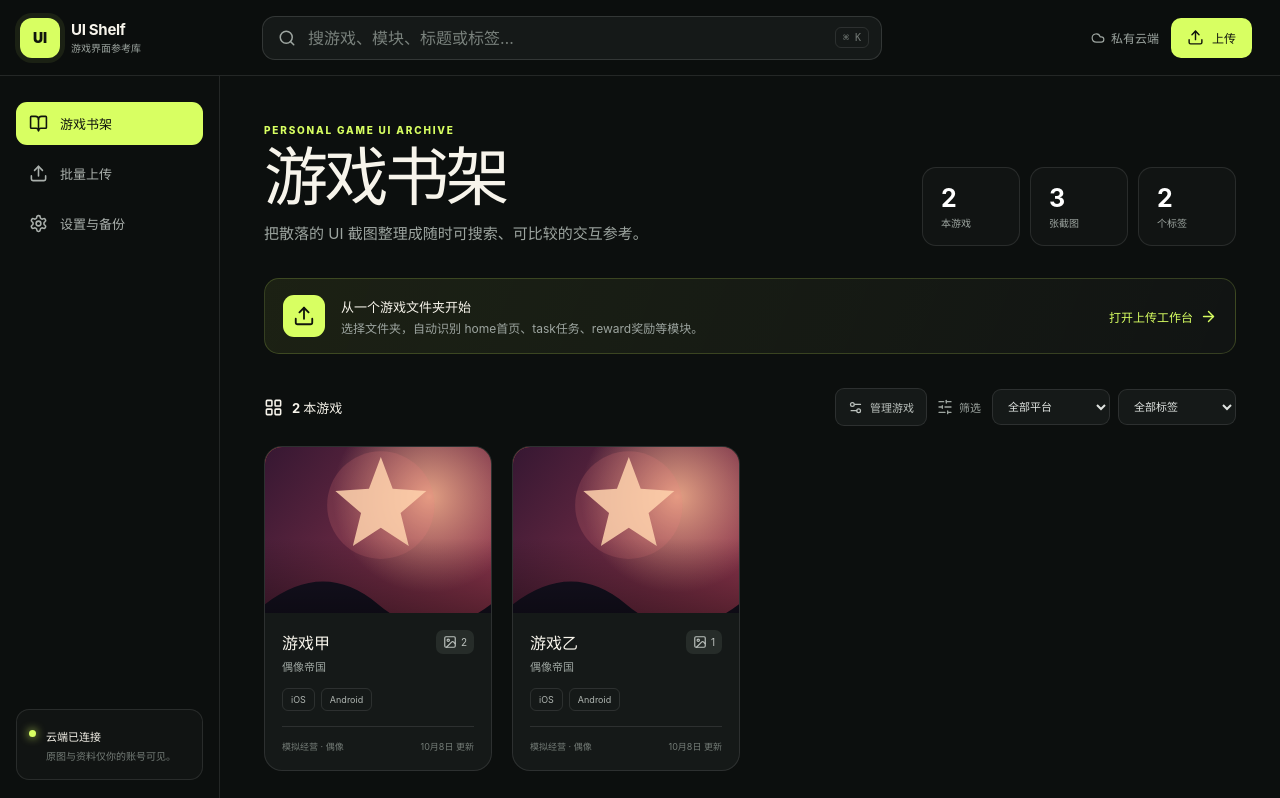
bookshelf game management › keeps partial cleanup and refresh failures visible on the shelf
The image size is (1280, 798).
Click the button "管理游戏" at [881, 407], box x1=835 y1=388 x2=927 y2=426
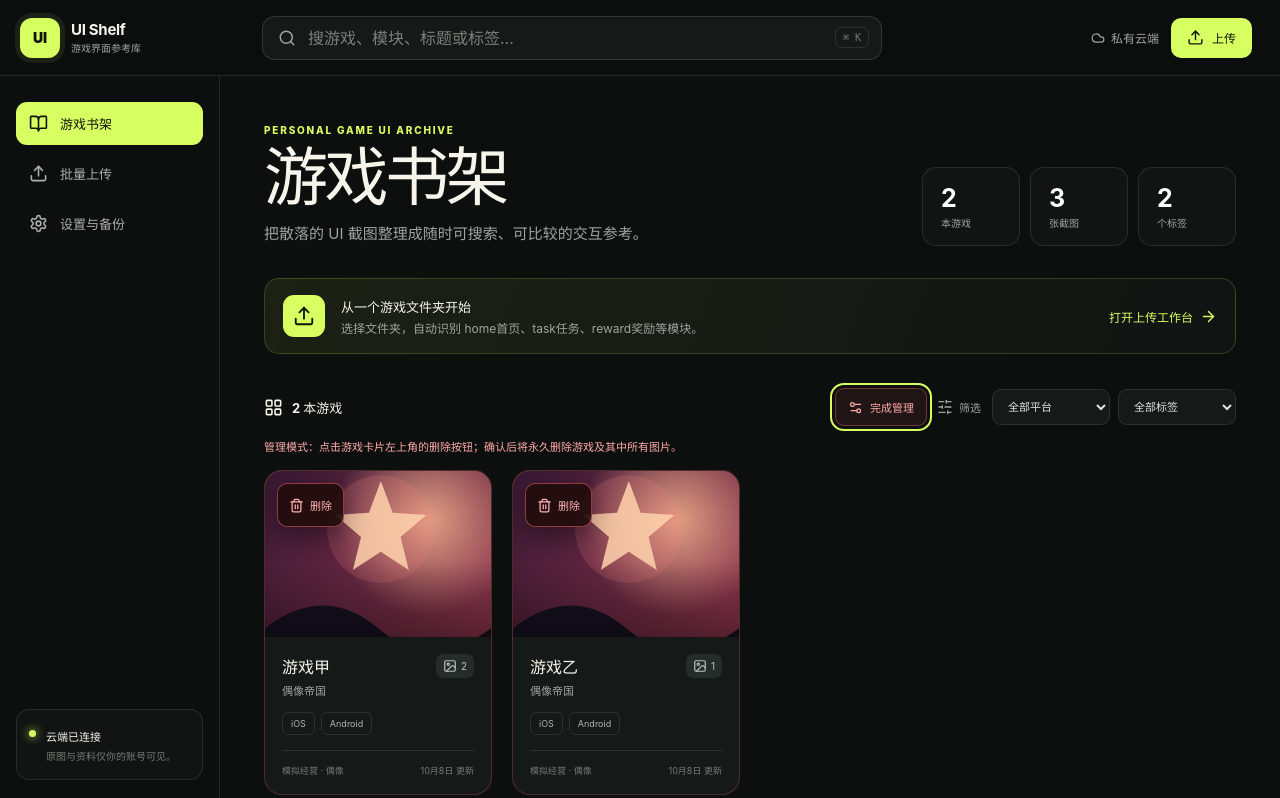
Expected: the button named "管理游戏" is pressed, x1=835 y1=388 x2=927 y2=426
Click the button with aria-label "删除游戏 游戏甲" at [310, 505], box x1=277 y1=483 x2=344 y2=527
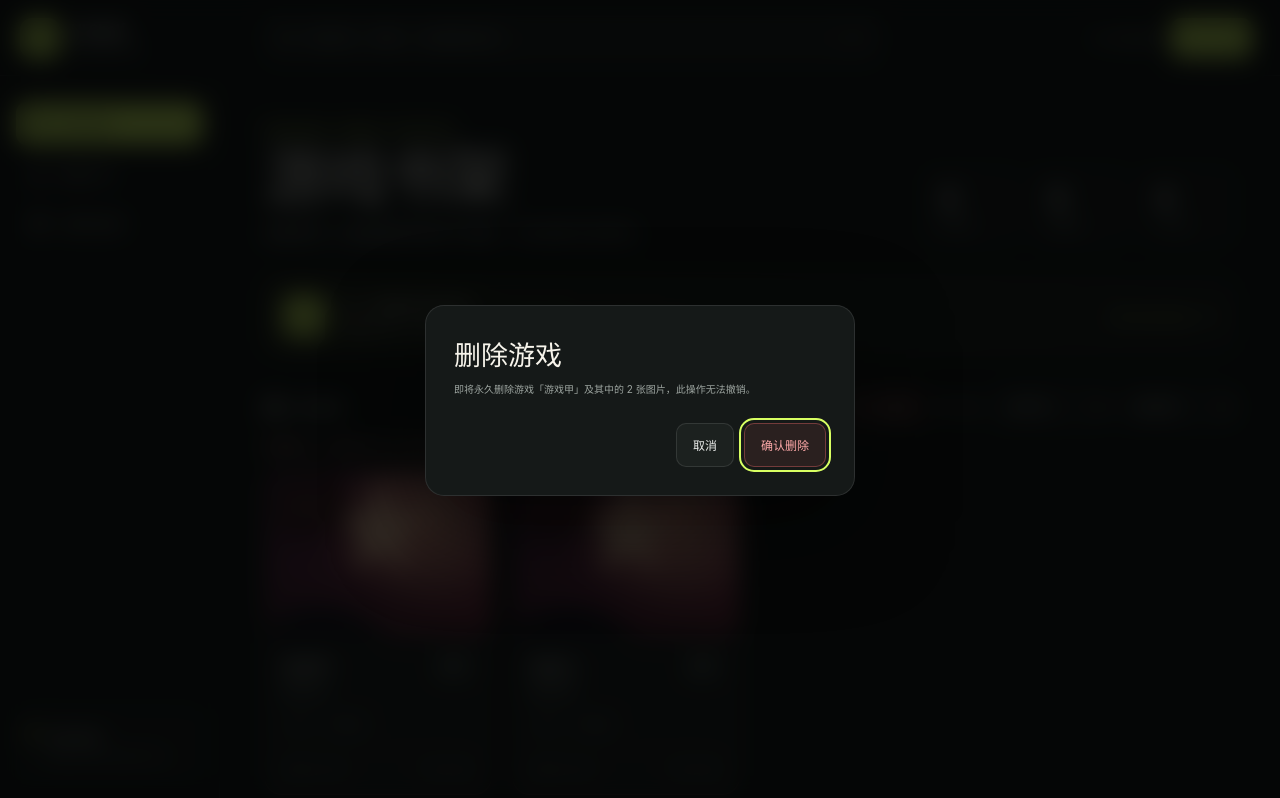
Click the button "确认删除" at [785, 444], box x1=744 y1=422 x2=826 y2=466
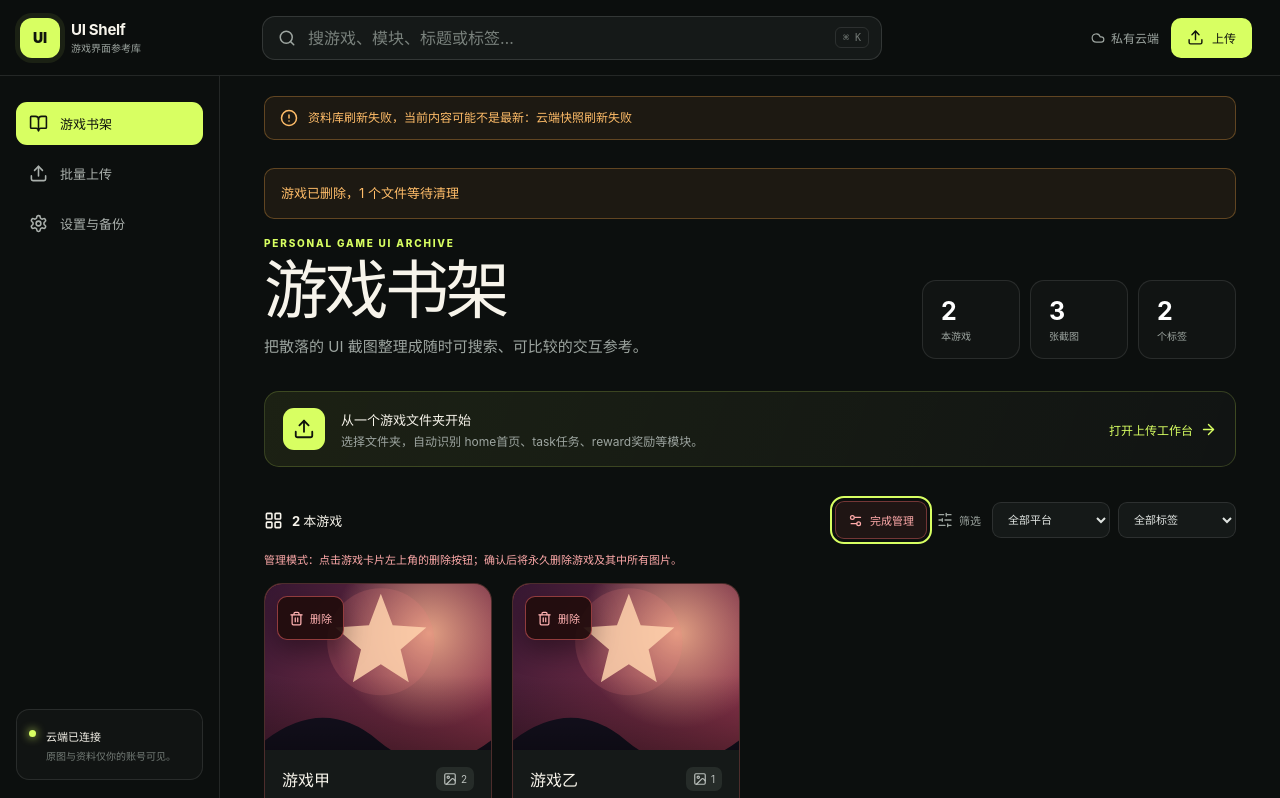
Expected: the message "游戏已删除，1 个文件等待清理" is shown, x1=264 y1=168 x2=1236 y2=219
Expected: the message "资料库刷新失败，当前内容可能不是最新：云端快照刷新失败" is shown, x1=264 y1=96 x2=1236 y2=140
